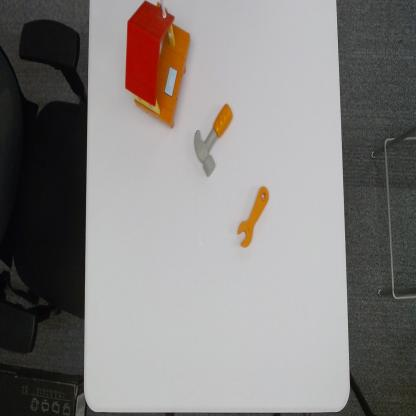Hammer: (194, 102, 234, 178)
House: (124, 0, 191, 133)
Screwdriver: (236, 184, 270, 249)
